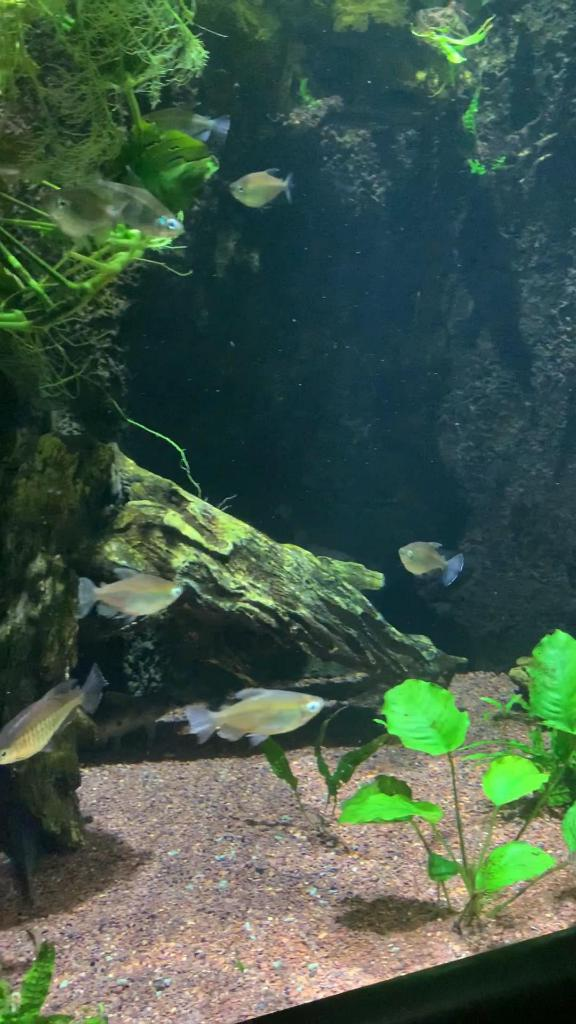fish: (0, 660, 110, 768), (180, 682, 324, 754), (70, 170, 184, 246), (122, 94, 238, 154), (73, 567, 187, 625), (34, 174, 110, 242), (398, 536, 466, 586), (227, 164, 299, 210)
